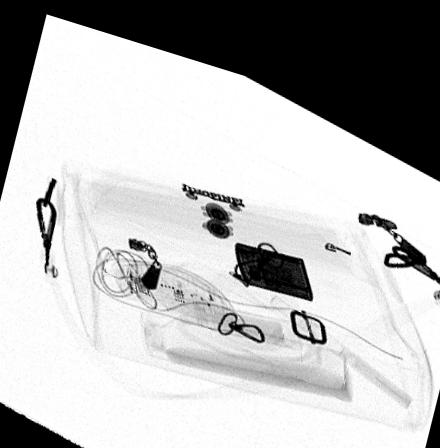Lighter: (234, 226, 313, 282)
